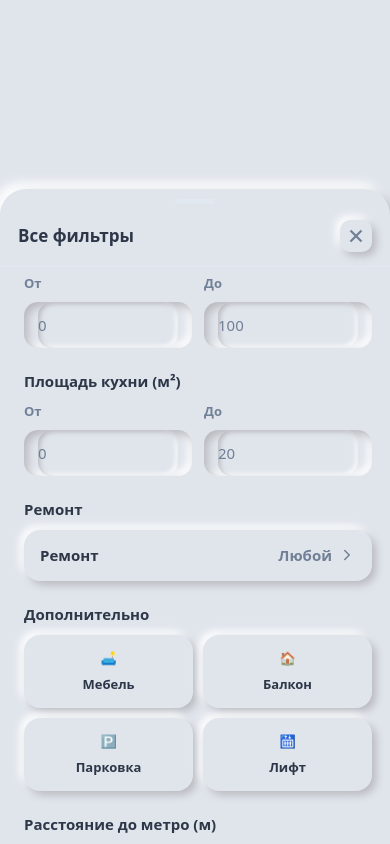
Test: FilterBottomSheet — полноэкранные выборы › ремонт: открывается полноэкранный выбор со списком видов ремонта
The width and height of the screenshot is (390, 844).
(page scrolled)
Click the button "Ремонт Любой" at (69, 555), box [24,530,372,581]
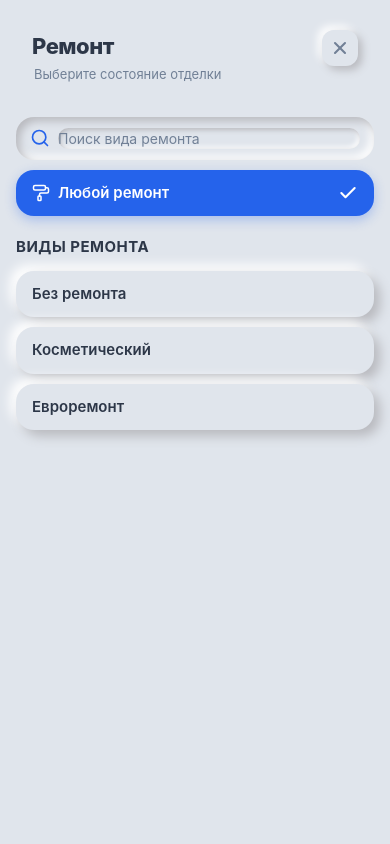
expect the text "Без ремонта" is shown: met, box [32,284,126,302]
expect the text "Евроремонт" is shown: met, box [32,396,124,416]
expect the text "Любой ремонт" is shown: met, box [32,182,169,202]
